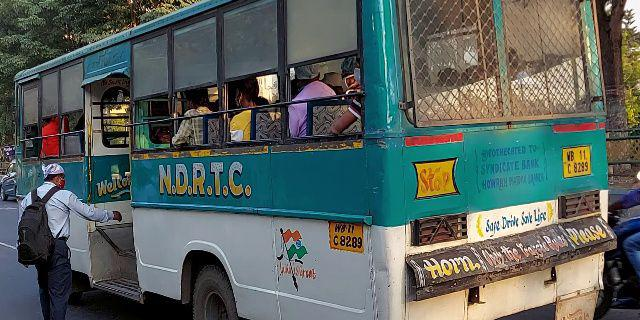Bus: (11, 3, 616, 320)
